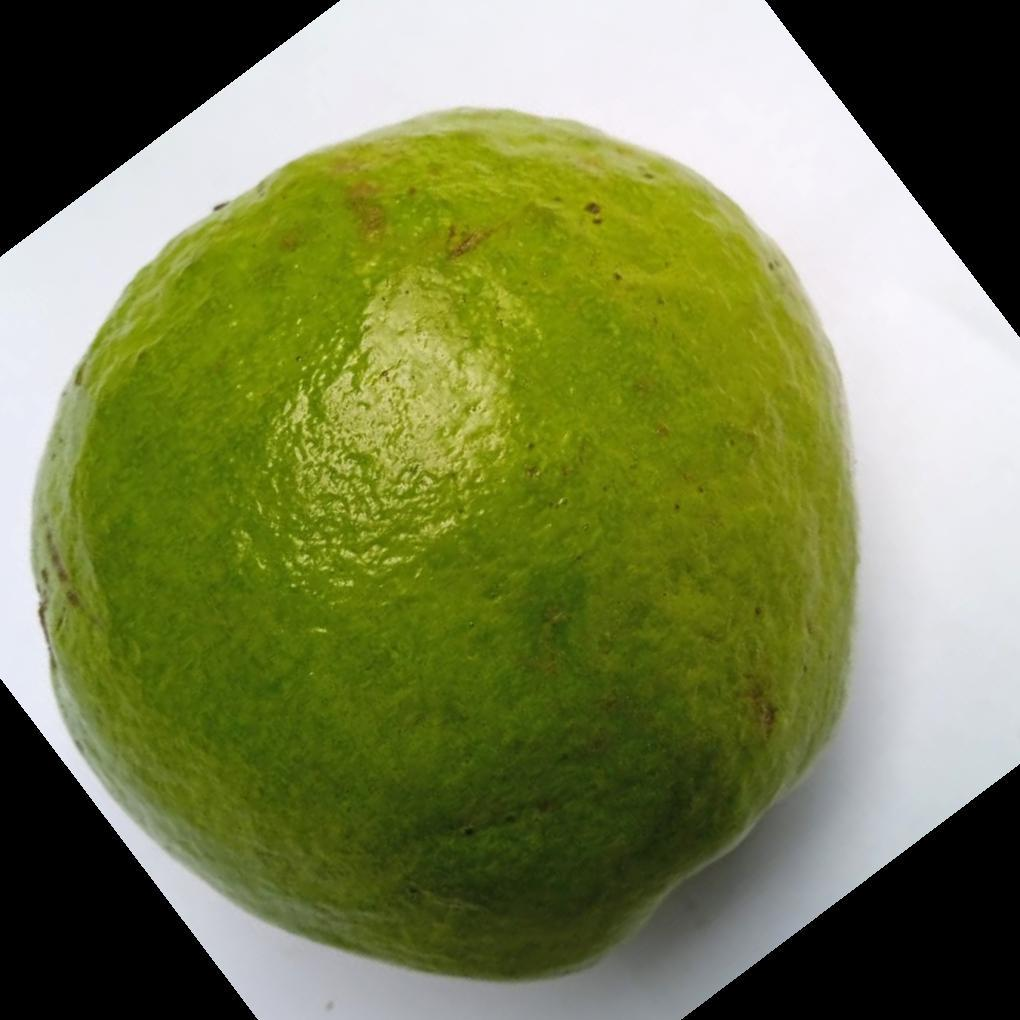FreshGuava: (24, 107, 862, 987)
